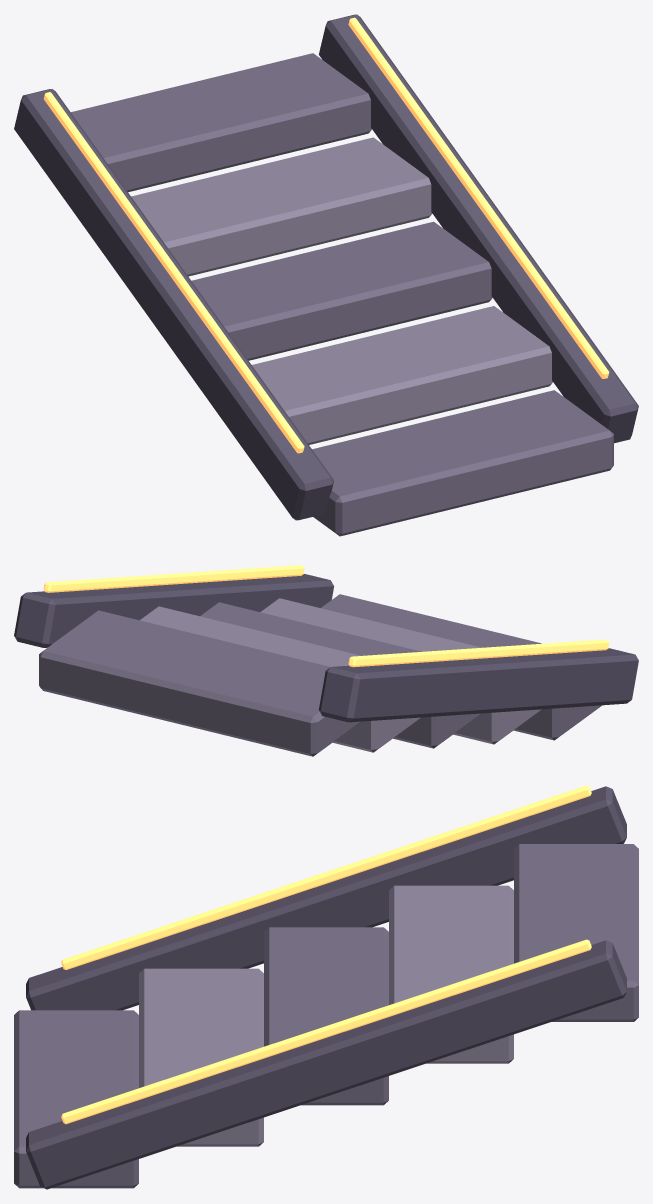
File: ember_stair_module.glb
3 views of the same model, one above another, from view 1: azimuth 30°, elevation 25°; view 2: azimuth 150°, elevation 25°; view 3: azimuth 270°, elevation 25° (orthographic). The views are drawn at different scales.
Parts seen in each view (by area): view 1: ember_stair_module.001; view 2: ember_stair_module.001; view 3: ember_stair_module.001.
Part boxes in pixels (<box>): ember_stair_module.001: <box>14,14,638,536</box>; ember_stair_module.001: <box>14,565,638,756</box>; ember_stair_module.001: <box>14,785,638,1189</box>.
Size of the model in its own units: 3.9 by 2.72 by 6.
